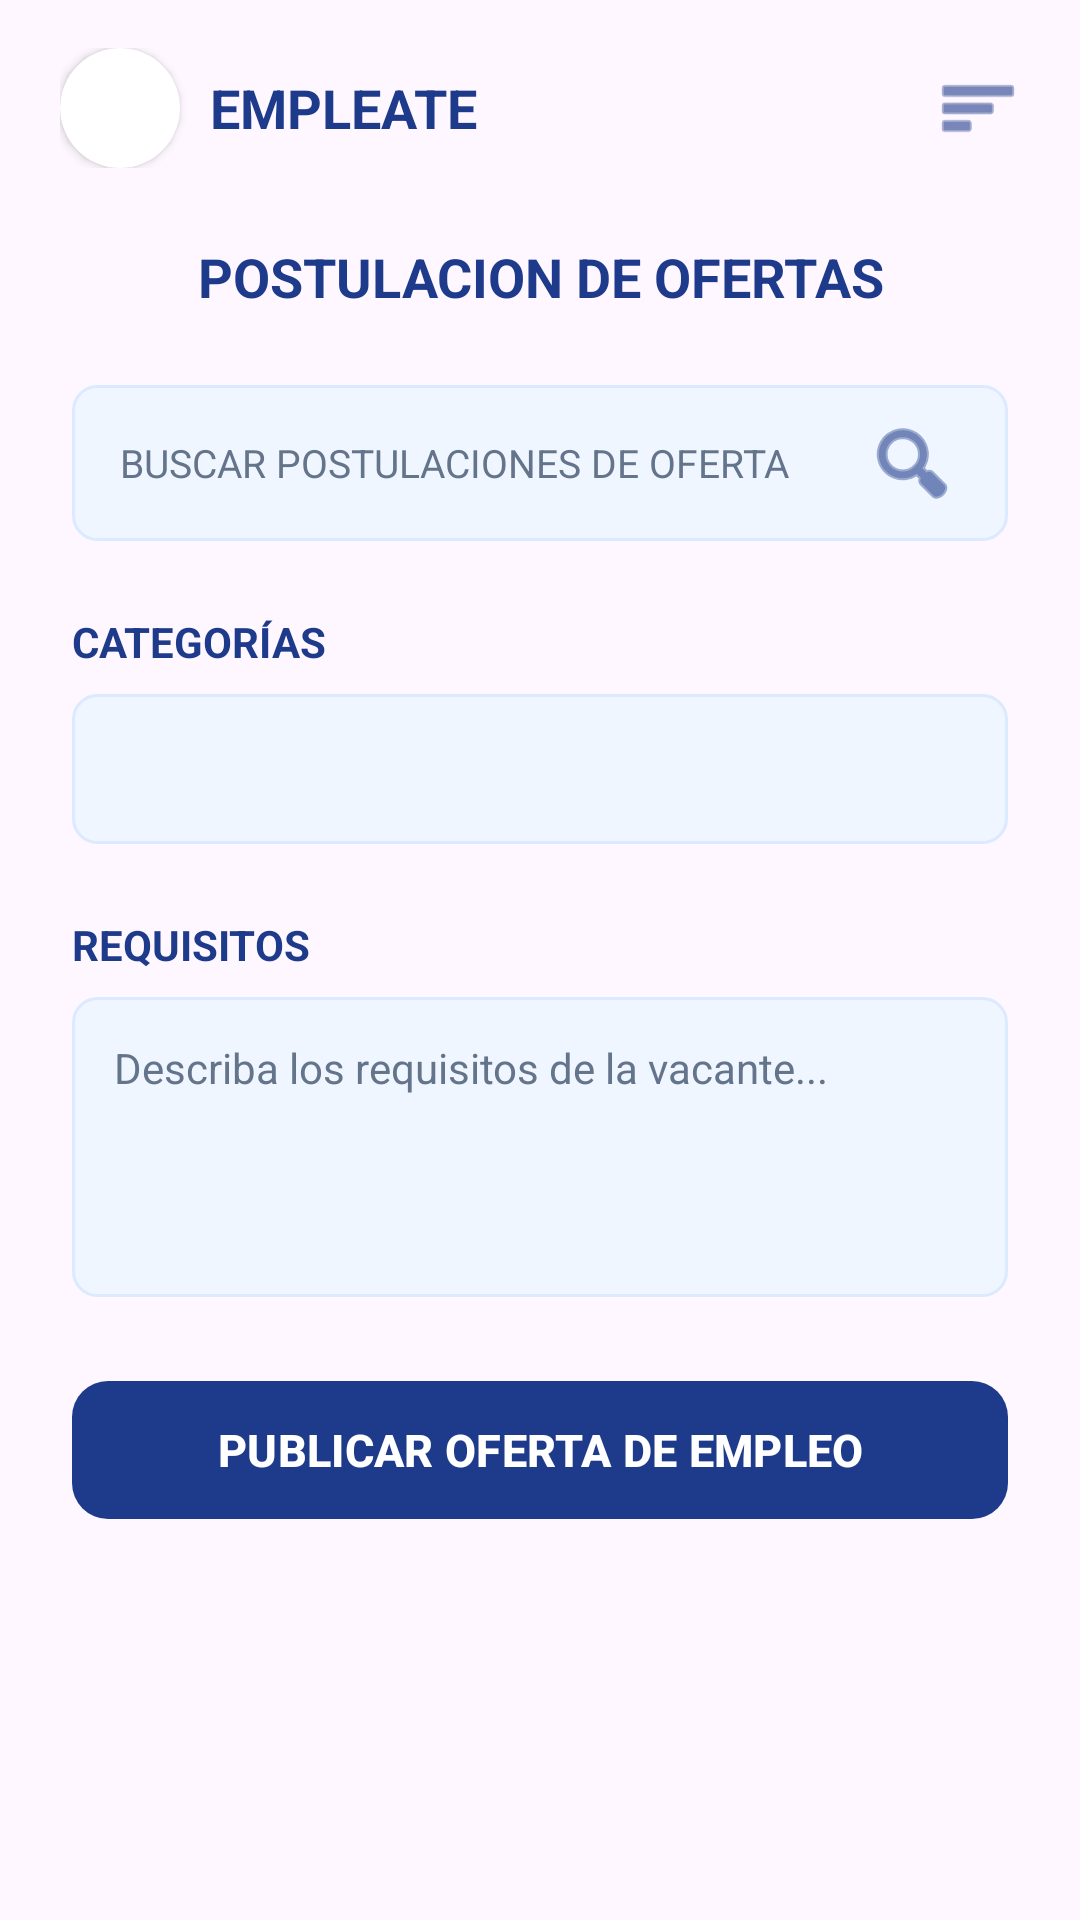

Point at icon controls on the screen. Image size 1080x1920, points as (x=x, y=y).
Menú: (x=978, y=108)
